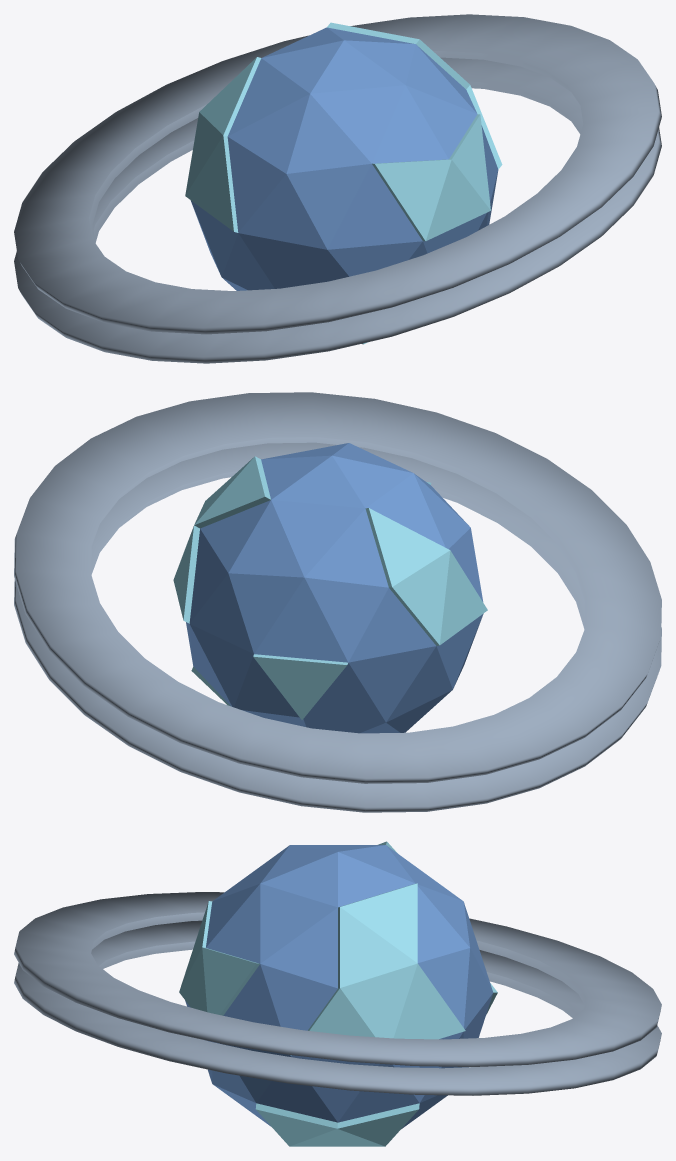
Rendered from NebulosaAzure.glb.
3 renders of one model, top to bottom at view 1: azimuth 30°, elevation 25°; view 2: azimuth 150°, elevation 25°; view 3: azimuth 270°, elevation 25°, orthographic.
Parts seen in each view (by area): view 1: Icosphere, Cylinder.001, Cylinder; view 2: Cylinder.001, Icosphere, Cylinder; view 3: Icosphere, Cylinder.001, Cylinder.
Boxes of the visible parts, x1,y1,x2,y2 form: Icosphere: [185, 22, 502, 344]; Cylinder.001: [14, 14, 661, 334]; Cylinder: [14, 57, 661, 363]; Cylinder.001: [14, 392, 661, 783]; Icosphere: [173, 443, 487, 733]; Cylinder: [14, 442, 661, 812]; Icosphere: [179, 841, 497, 1146]; Cylinder.001: [14, 892, 661, 1066]; Cylinder: [14, 920, 661, 1095].
Bounding box in the file's own units: 4.12 × 2.04 × 4.17.
2 materials, 1 textured.
